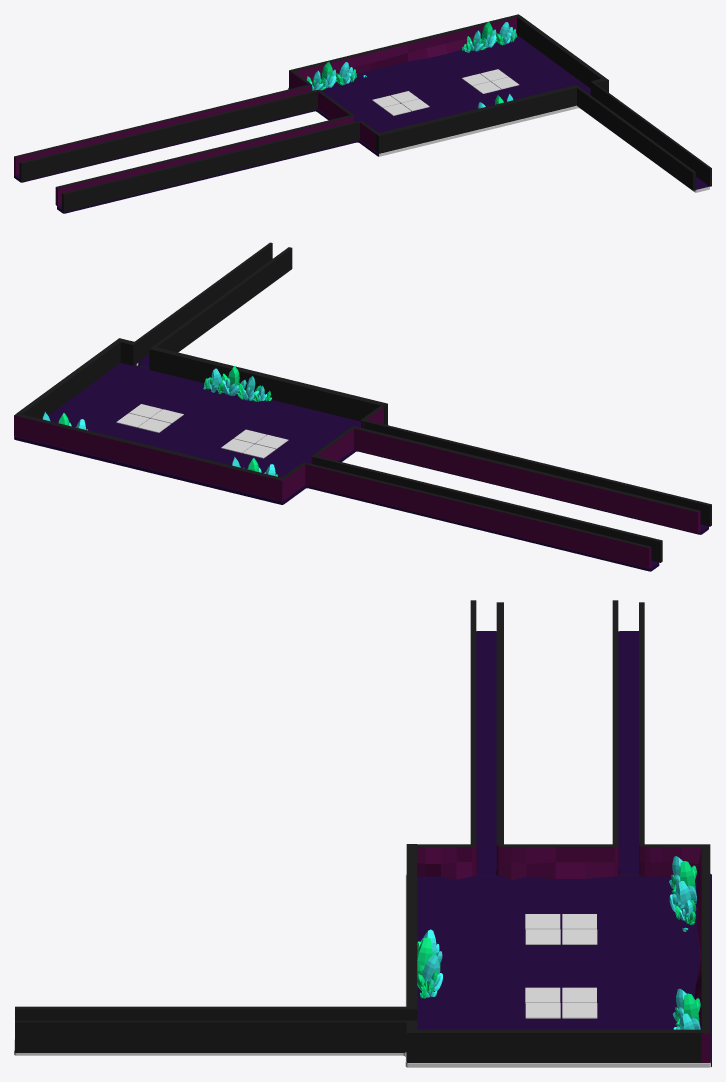
Rendered from sala4.fbx.
3 renders of one model, top to bottom at view 1: azimuth 30°, elevation 25°; view 2: azimuth 150°, elevation 25°; view 3: azimuth 270°, elevation 25°, orthographic. The views are drawn at different scales.
Visible parts, largest first — view 1: paredes_der_abajo4, suelo4, paredes_izq_arriba4, conjunto_cristales, conjunto_trampas; view 2: paredes_izq_arriba4, paredes_der_abajo4, suelo4, conjunto_trampas, conjunto_cristales; view 3: suelo4, paredes_der_abajo4, paredes_izq_arriba4, conjunto_trampas, conjunto_cristales.
Part boxes in pixels (left/top/right/bottom): paredes_der_abajo4: left=19, top=15, right=711, bottom=212; suelo4: left=14, top=35, right=709, bottom=213; paredes_izq_arriba4: left=14, top=14, right=519, bottom=205; conjunto_cristales: left=306, top=21, right=516, bottom=108; conjunto_trampas: left=372, top=69, right=519, bottom=115; paredes_izq_arriba4: left=14, top=405, right=700, bottom=569; paredes_der_abajo4: left=16, top=242, right=711, bottom=562; suelo4: left=14, top=274, right=708, bottom=571; conjunto_trampas: left=116, top=404, right=288, bottom=458; conjunto_cristales: left=42, top=366, right=277, bottom=476; suelo4: left=14, top=631, right=711, bottom=1067; paredes_der_abajo4: left=15, top=600, right=703, bottom=1063; paredes_izq_arriba4: left=417, top=602, right=710, bottom=1062; conjunto_trampas: left=525, top=914, right=597, bottom=1018; conjunto_cristales: left=417, top=856, right=700, bottom=1029.
Size of the model in its own units: 17637 by 849 by 12016.
